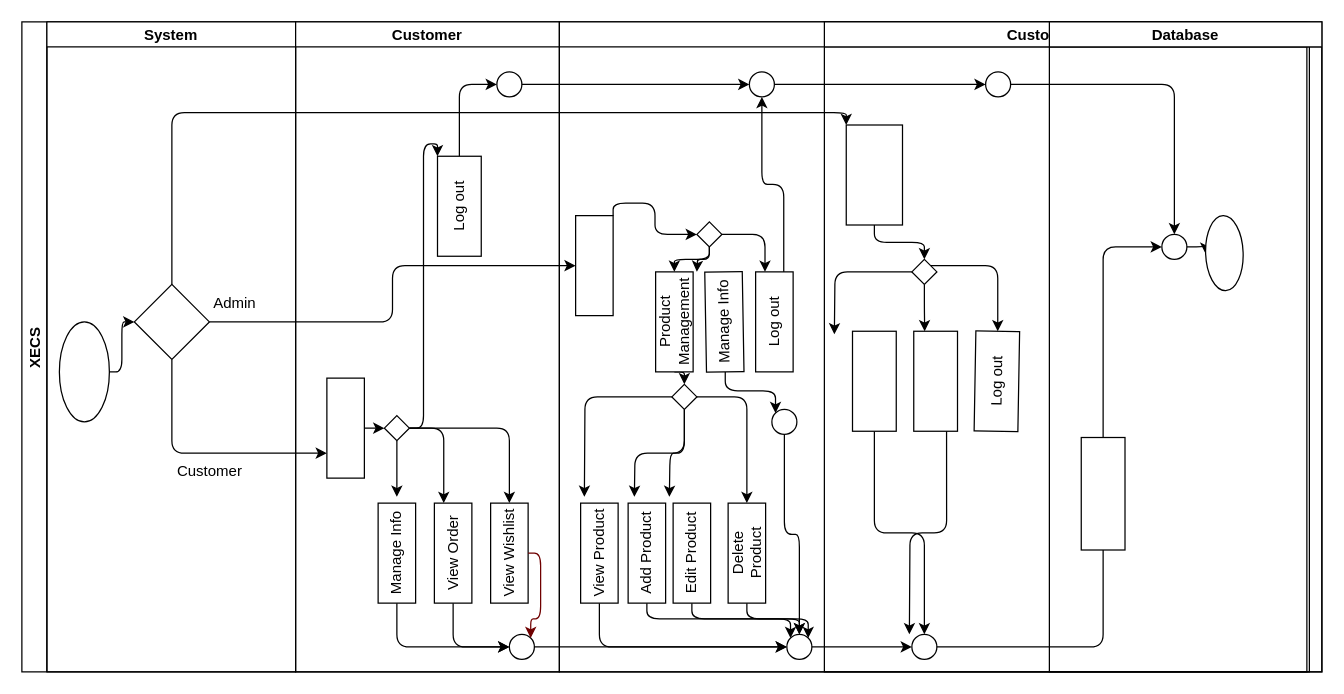
The diagram is 1344 pixels wide and 694 high, and some of its shapes have lost their labels. The centre of each missing label's shape, as x and y in pixels:
Admin Dashboard: the point at 593,265
Customer Dashboard: the point at 345,427
Customer Support Dashboard: the point at 873,174
End: the point at 1223,252
Start: the point at 83,371
Store In Database: the point at 1102,493
User type: the point at 171,321
view Feedback: the point at 935,380
View Queries: the point at 873,380
